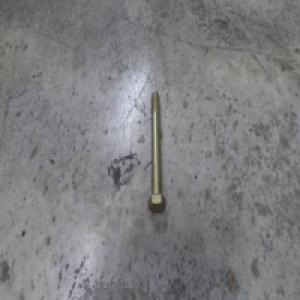Bolt: (145, 91, 166, 213)
